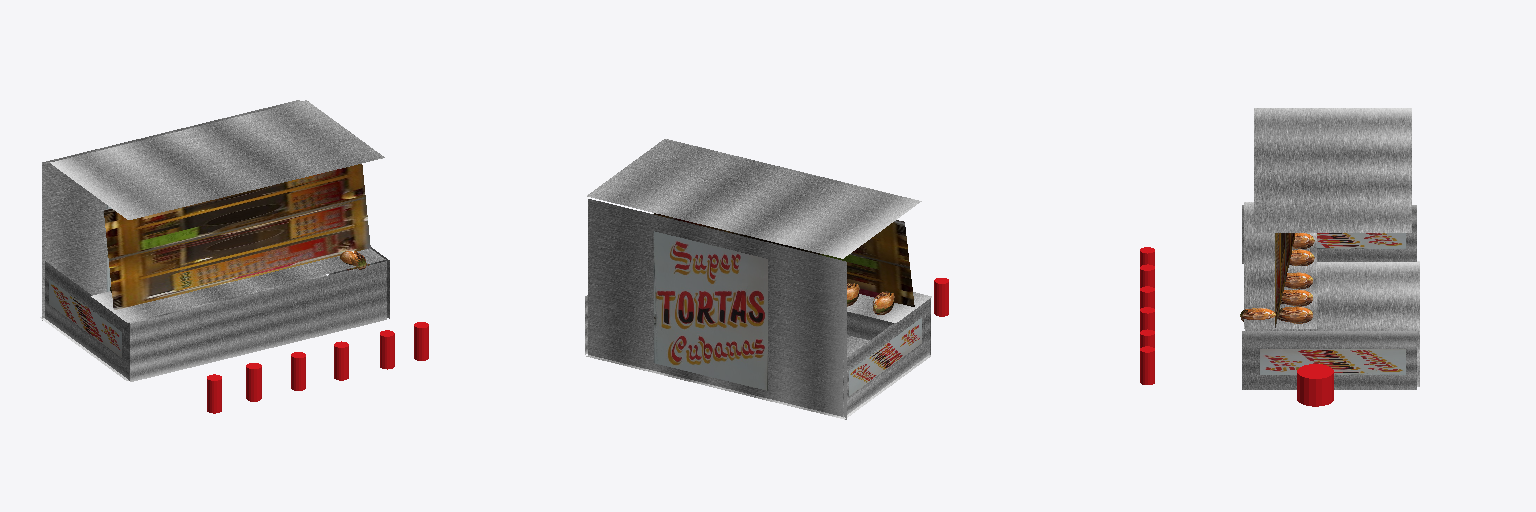
The picture shows the model from 3 angles: view 1: azimuth 30°, elevation 25°; view 2: azimuth 150°, elevation 25°; view 3: azimuth 270°, elevation 25°; orthographic projection.
Parts seen in each view (by area): view 1: Box008, Box003, Box007, Box002, Box005, Box004, Cylinder002, Box001, Cylinder003, Cylinder006, Cylinder001, Cylinder005 (+1 smaller); view 2: Box002, Box003, Box005, Box008, Box001, Box004, Box007, Cylinder001; view 3: Box003, Box006, Box001, Box004, Box005, Cylinder007, Box008, Cylinder006.
Boxes of the visible parts, x1=… form: Box008: x1=104, y1=164, x2=370, y2=310; Box003: x1=50, y1=100, x2=384, y2=219; Box007: x1=130, y1=261, x2=386, y2=381; Box002: x1=42, y1=100, x2=299, y2=320; Box005: x1=45, y1=261, x2=129, y2=380; Box004: x1=91, y1=248, x2=385, y2=322; Cylinder002: x1=246, y1=363, x2=261, y2=401; Box001: x1=40, y1=275, x2=326, y2=380; Cylinder003: x1=291, y1=352, x2=305, y2=390; Cylinder006: x1=414, y1=322, x2=428, y2=360; Cylinder001: x1=207, y1=374, x2=221, y2=413; Cylinder005: x1=380, y1=330, x2=394, y2=369; Box002: x1=588, y1=199, x2=846, y2=419; Box003: x1=587, y1=139, x2=921, y2=258; Box005: x1=843, y1=299, x2=929, y2=417; Box008: x1=654, y1=213, x2=914, y2=306; Box001: x1=586, y1=335, x2=930, y2=419; Box004: x1=847, y1=292, x2=931, y2=322; Box007: x1=847, y1=298, x2=930, y2=354; Cylinder001: x1=934, y1=278, x2=948, y2=316; Box003: x1=1254, y1=108, x2=1411, y2=232; Box006: x1=1242, y1=331, x2=1416, y2=389; Box001: x1=1245, y1=261, x2=1419, y2=386; Box004: x1=1244, y1=202, x2=1316, y2=328; Box005: x1=1242, y1=205, x2=1416, y2=263; Cylinder007: x1=1297, y1=364, x2=1333, y2=406; Box008: x1=1275, y1=233, x2=1294, y2=327; Cylinder006: x1=1140, y1=346, x2=1154, y2=384.
Bounding box in the file's own units: 86.85 × 45.03 × 71.68.
5 materials, 5 textured.